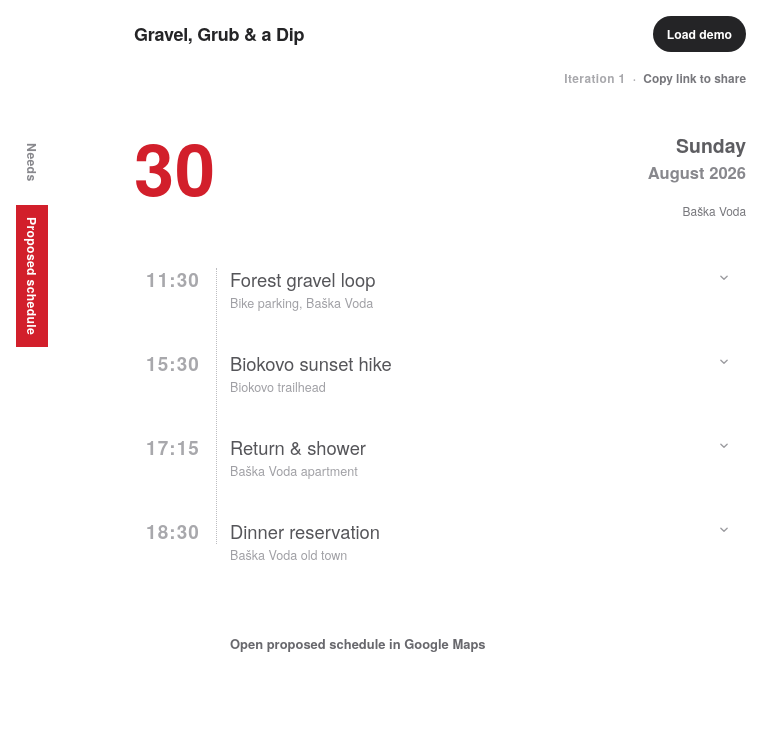
Test case: daymaker.fun app › exposes maps from every located schedule item
Click the button "Forest gravel loop" at (173, 279), box [134,268,746,322]
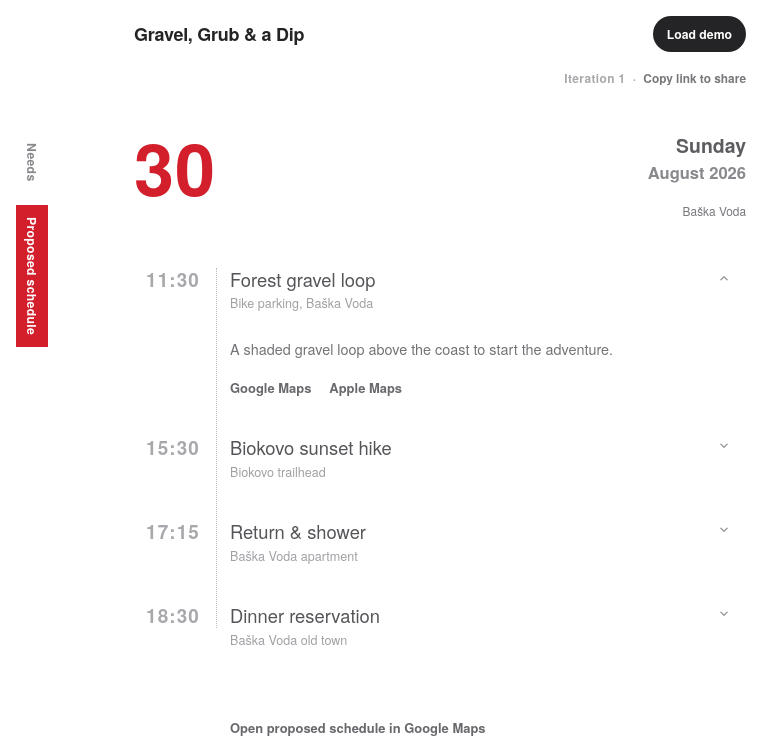
Check: the link "Open proposed schedule in Google Maps" is shown, box [230,718,486,737]
Check: the link with aria-label "Open in Google Maps: Forest gravel loop" is shown, box [230,378,311,397]
Check: the link with aria-label "Open in Apple Maps: Forest gravel loop" is shown, box [329,378,402,397]
